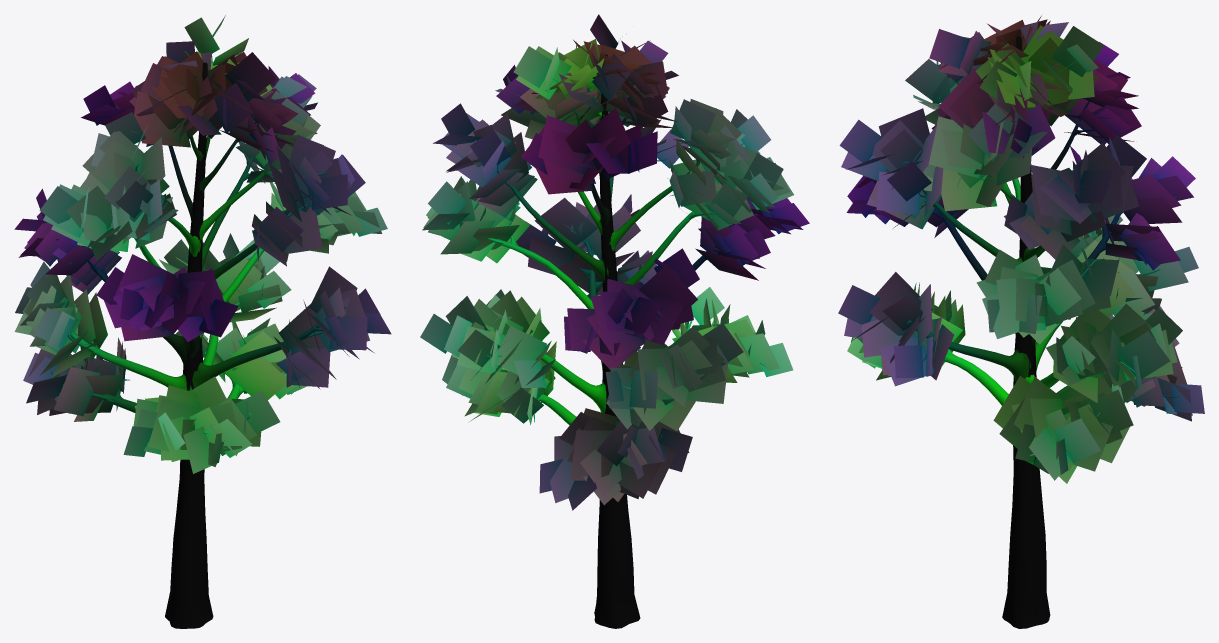
The model's file is Tree2.fbx.
3 views of the same model, side by side, from view 1: azimuth 30°, elevation 25°; view 2: azimuth 150°, elevation 25°; view 3: azimuth 270°, elevation 25° (orthographic). The views are drawn at different scales.
Visible parts, largest first — view 1: Tree_1, Tree_0; view 2: Tree_1, Tree_0; view 3: Tree_1, Tree_0.
Part boxes in pixels (<box>): Tree_1: <box>14,15,391,473</box>; Tree_0: <box>51,56,358,628</box>; Tree_1: <box>420,14,809,510</box>; Tree_0: <box>444,36,781,628</box>; Tree_1: <box>838,15,1204,483</box>; Tree_0: <box>869,36,1179,628</box>.
Size of the model in its own units: 191 by 312 by 170.
